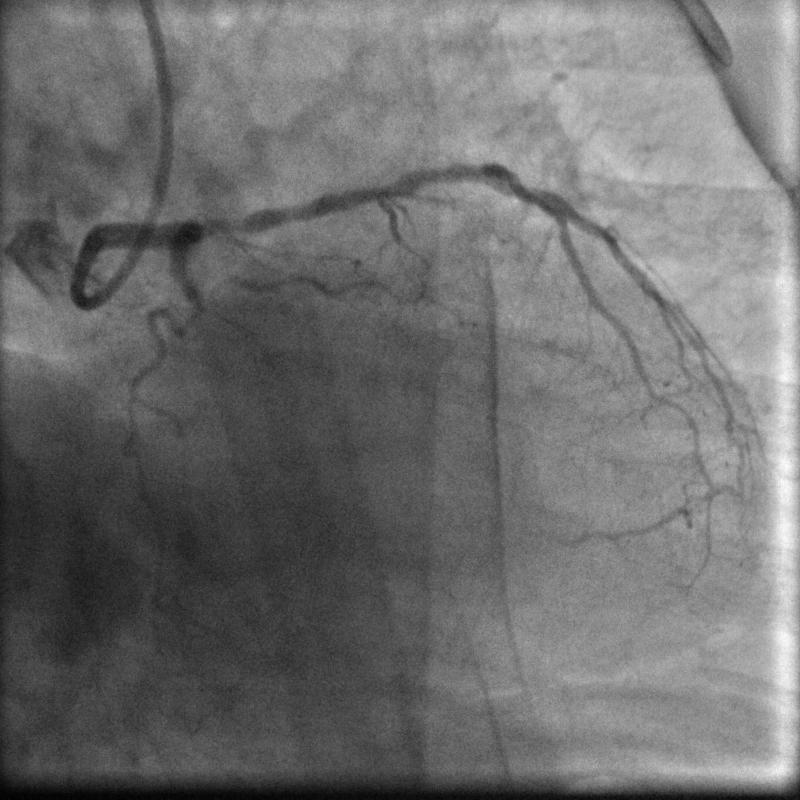Stenosis: (200, 207, 256, 241)
